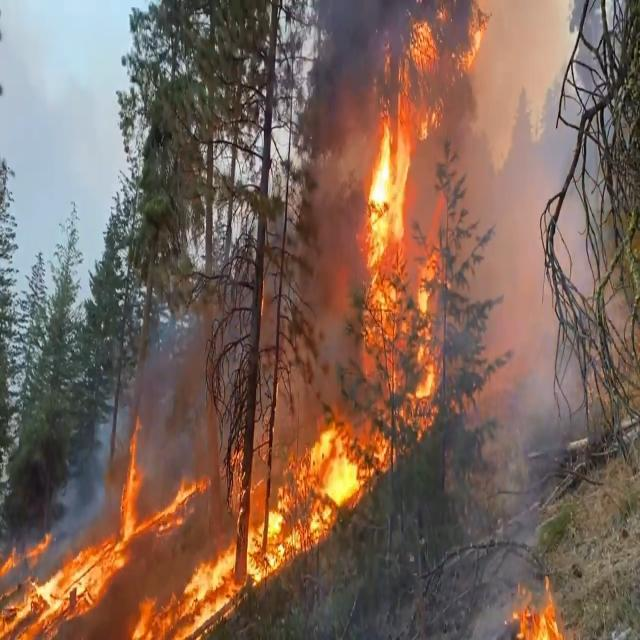Fire: (3, 3, 487, 640)
